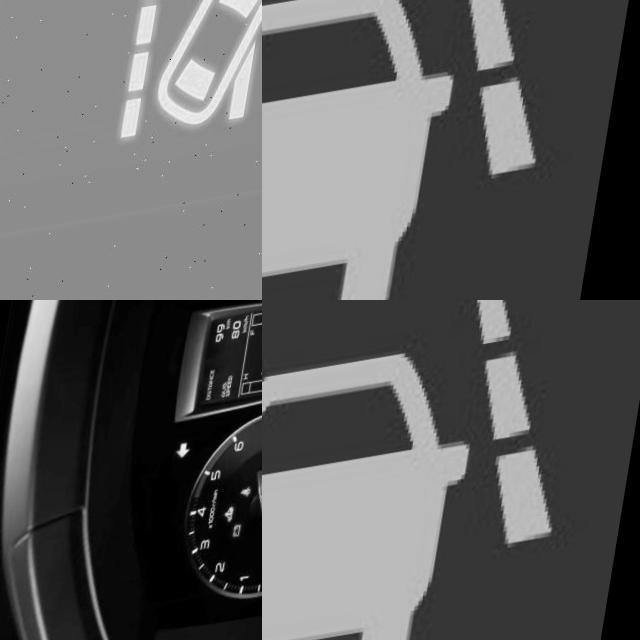Seat Belt: (254, 498, 262, 509)
